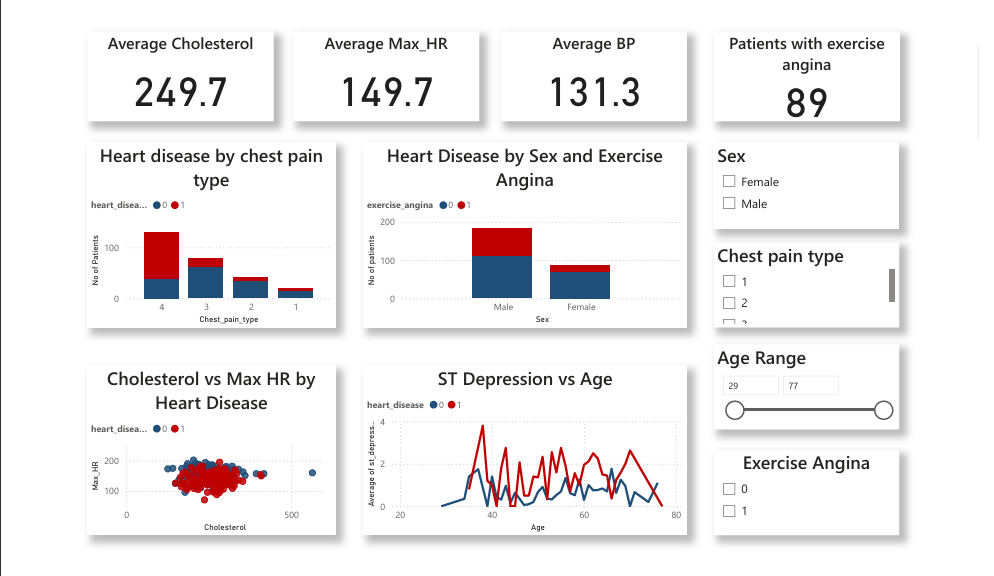

The dashboard page shown, as its layout file describes it:
{"tool":"powerbi","page":{"name":"Clinical Metrics","canvas":[1280,720],"ordinal":1},"visuals":[{"type":"card","title":"Average Cholesterol","fields":{"Values":["Avg(Heart_Disease_Prediction_Cleaned.cholesterol)"]},"box":[91.4,18.5,248.6,119.3],"z":0},{"type":"card","title":"Average Max_HR","fields":{"Values":["Avg(Heart_Disease_Prediction_Cleaned.max_hr)"]},"box":[365.2,18.5,248.6,119.3],"z":1000},{"type":"card","title":"Average BP","fields":{"Values":["Avg(Heart_Disease_Prediction_Cleaned.bp)"]},"box":[642.4,18.5,248.6,119.3],"z":2000},{"type":"card","title":"Patients with exercise angina","fields":{"Values":["CountNonNull(Heart_Disease_Prediction_Cleaned.exercise_angina)"]},"box":[926.2,18.5,248.6,119.3],"z":3000},{"type":"columnChart","title":"Heart disease by chest pain type","fields":{"Category":["Heart_Disease_Prediction_Cleaned.chest_pain_type"],"Series":["Heart_Disease_Prediction_Cleaned.heart_disease"],"Y":["CountNonNull(Heart_Disease_Prediction_Cleaned.age)"]},"box":[90.7,166.3,330.9,246.9],"z":4000},{"type":"columnChart","title":"Heart Disease by Sex and Exercise Angina","fields":{"Y":["CountNonNull(Heart_Disease_Prediction_Cleaned.age)"],"Category":["Heart_Disease_Prediction_Cleaned.sex"],"Series":["Heart_Disease_Prediction_Cleaned.exercise_angina"]},"box":[458.6,166.3,431.7,246.9],"z":5000},{"type":"scatterChart","title":"Cholesterol vs Max HR by Heart Disease","fields":{"X":["Heart_Disease_Prediction_Cleaned.cholesterol"],"Y":["Heart_Disease_Prediction_Cleaned.max_hr"],"Series":["Heart_Disease_Prediction_Cleaned.heart_disease"]},"box":[91.4,463.6,330.9,226.8],"z":6000},{"type":"lineChart","title":"ST Depression vs Age","fields":{"Category":["Heart_Disease_Prediction_Cleaned.age"],"Y":["Avg(Heart_Disease_Prediction_Cleaned.st_depression)"],"Series":["Heart_Disease_Prediction_Cleaned.heart_disease"]},"box":[459.3,463.6,431.7,226.8],"z":7000},{"type":"slicer","title":"Sex","fields":{"Values":["Heart_Disease_Prediction_Cleaned.sex"]},"box":[925.6,166.3,248.6,114.2],"z":8000},{"type":"slicer","title":"Chest pain type","fields":{"Values":["Heart_Disease_Prediction_Cleaned.chest_pain_type"]},"box":[925.6,299,248.6,114.2],"z":9000},{"type":"slicer","title":"Age Range","fields":{"Values":["Heart_Disease_Prediction_Cleaned.age"]},"box":[925.6,435.1,248.6,114.2],"z":10000},{"type":"slicer","title":"Exercise Angina","fields":{"Values":["Heart_Disease_Prediction_Cleaned.exercise_angina"]},"box":[925.6,576.2,248.6,114.2],"z":11000}]}

Visuals, with their boxes in screenshot pixels (x1, y1, x2, y2), scaled from the page's 1280x720 canvas onto the 994x576 screenshot:
"Average Cholesterol" card: Rect(71, 15, 264, 110)
"Average Max_HR" card: Rect(284, 15, 477, 110)
"Average BP" card: Rect(499, 15, 692, 110)
"Patients with exercise angina" card: Rect(719, 15, 912, 110)
"Heart disease by chest pain type" columnChart: Rect(70, 133, 327, 331)
"Heart Disease by Sex and Exercise Angina" columnChart: Rect(356, 133, 691, 331)
"Cholesterol vs Max HR by Heart Disease" scatterChart: Rect(71, 371, 328, 552)
"ST Depression vs Age" lineChart: Rect(357, 371, 692, 552)
"Sex" slicer: Rect(719, 133, 912, 224)
"Chest pain type" slicer: Rect(719, 239, 912, 331)
"Age Range" slicer: Rect(719, 348, 912, 439)
"Exercise Angina" slicer: Rect(719, 461, 912, 552)
